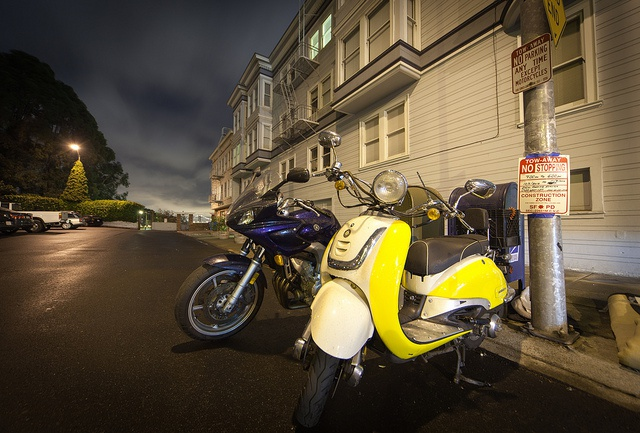non-vehicle: (288, 127, 524, 433), (175, 161, 336, 346)
